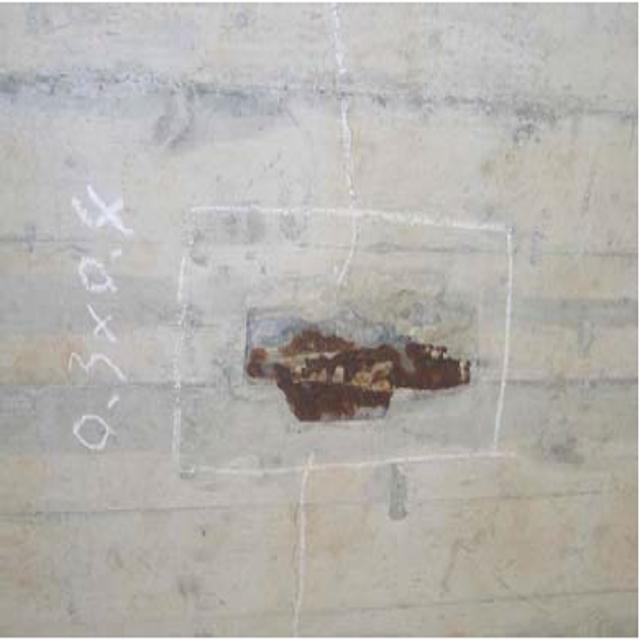spalling: (220, 266, 496, 467)
